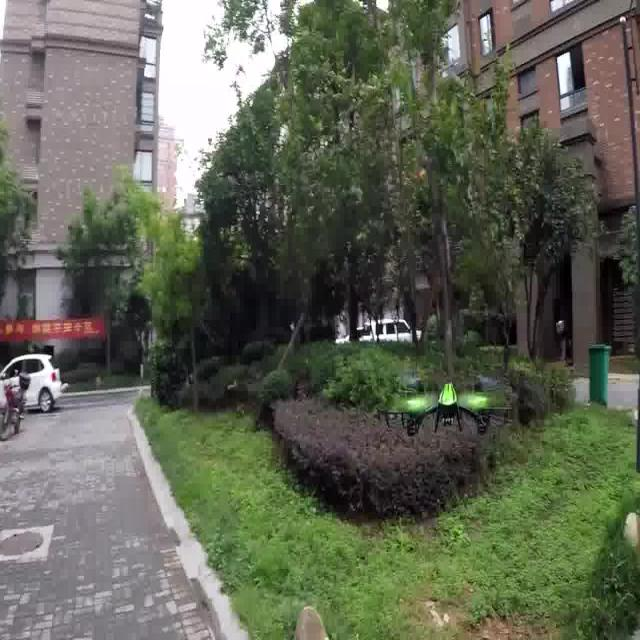drone: (383, 378, 507, 440)
